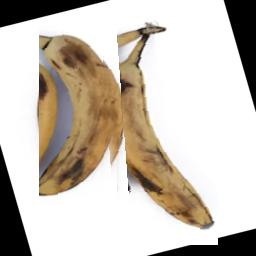Banana Semirotten: (101, 35, 218, 245), (39, 25, 117, 221)
